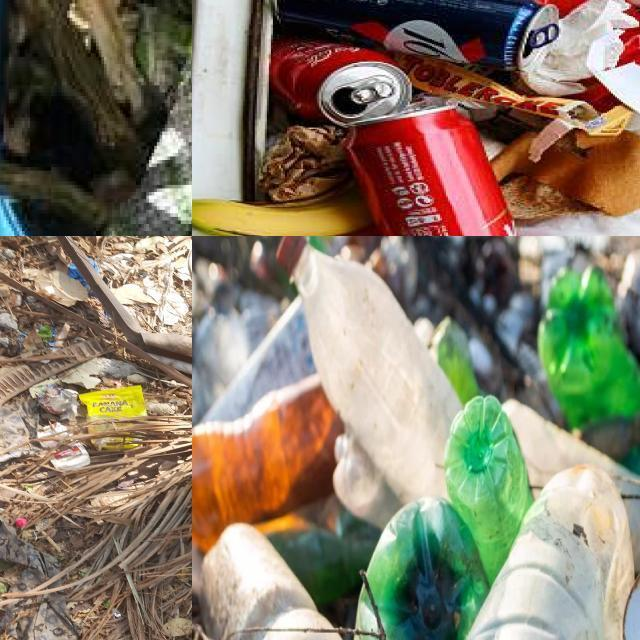Garbage: (192, 236, 640, 640), (192, 0, 640, 236), (0, 236, 192, 640)
Plastic_Bag: (503, 401, 640, 495), (625, 498, 640, 573)
Plastic_bottle: (277, 236, 461, 503), (465, 466, 634, 640), (192, 373, 343, 552), (538, 264, 640, 461), (367, 498, 488, 640), (200, 523, 342, 640), (445, 395, 532, 581), (258, 495, 381, 607), (333, 429, 402, 529), (431, 316, 479, 404), (355, 586, 376, 631)
Plastic_wraper: (80, 385, 148, 433), (31, 382, 77, 419), (90, 435, 142, 451), (103, 602, 122, 618)
Tetrapack: (50, 441, 90, 472), (37, 422, 69, 448)
can: (348, 107, 518, 236), (276, 0, 560, 69), (269, 38, 413, 125), (617, 7, 640, 67)
